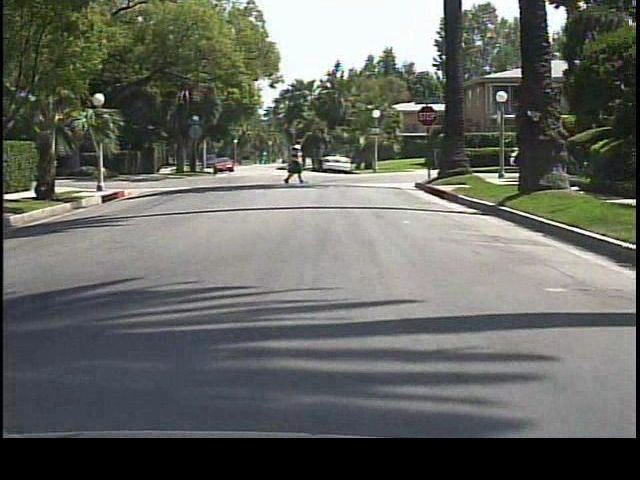person: (284, 137, 309, 187)
